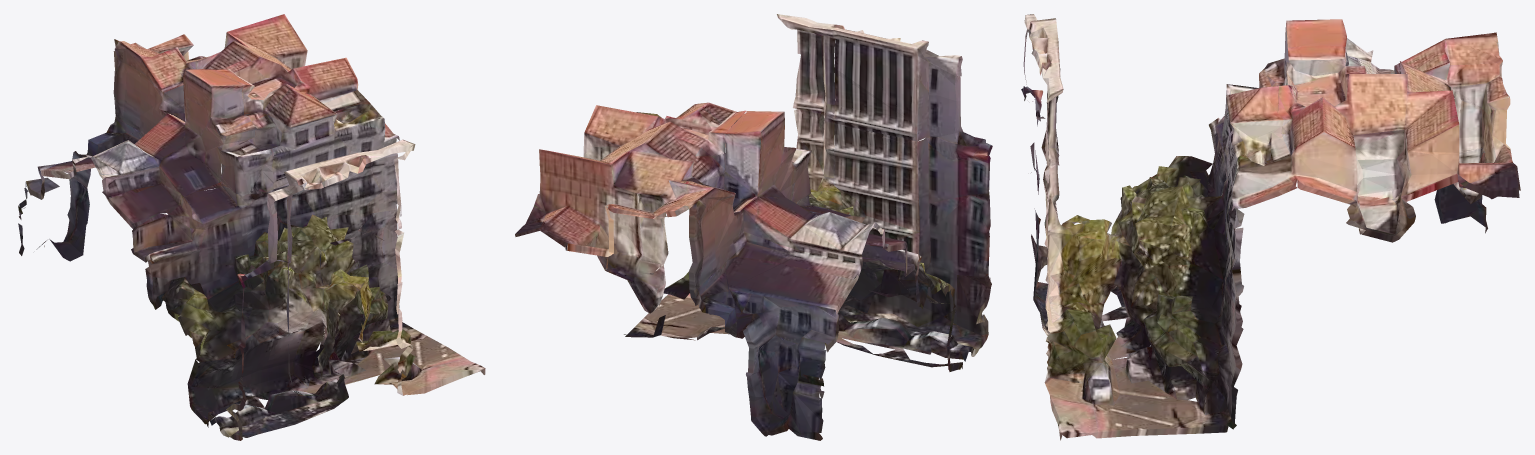
3 renders of one model, left to right at view 1: azimuth 30°, elevation 25°; view 2: azimuth 150°, elevation 25°; view 3: azimuth 270°, elevation 25°, orthographic. The views are drawn at different scales.
Visible parts, largest first — view 1: Mesh_0; view 2: Mesh_0; view 3: Mesh_0.
Boxes of the visible parts, <box> form: Mesh_0: <box>18,14,485,440</box>; Mesh_0: <box>515,14,992,440</box>; Mesh_0: <box>1021,14,1520,440</box>.
Size of the model in its own units: 33.88 by 29.02 by 41.27.
Materials: 1 (1 with a texture image).
